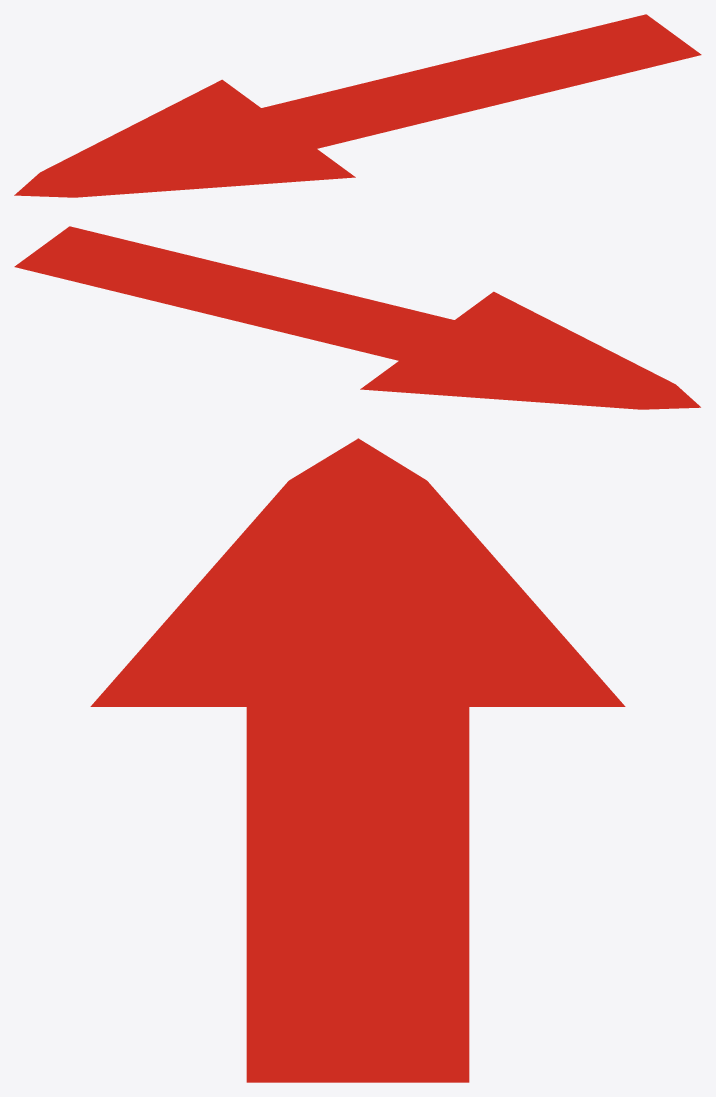
The model's file is red arrow.glb.
The picture shows the model from 3 angles, top to bottom: view 1: azimuth 30°, elevation 25°; view 2: azimuth 150°, elevation 25°; view 3: azimuth 270°, elevation 25°; orthographic projection. The views are drawn at different scales.
Parts seen in each view (by area): view 1: Plane; view 2: Plane; view 3: Plane.
Boxes of the visible parts, x1,y1,x2,y2 form: Plane: (14, 14, 701, 197); Plane: (14, 226, 700, 409); Plane: (90, 438, 625, 1082).
Size of the model in its own units: 5.69 by 0 by 2.
